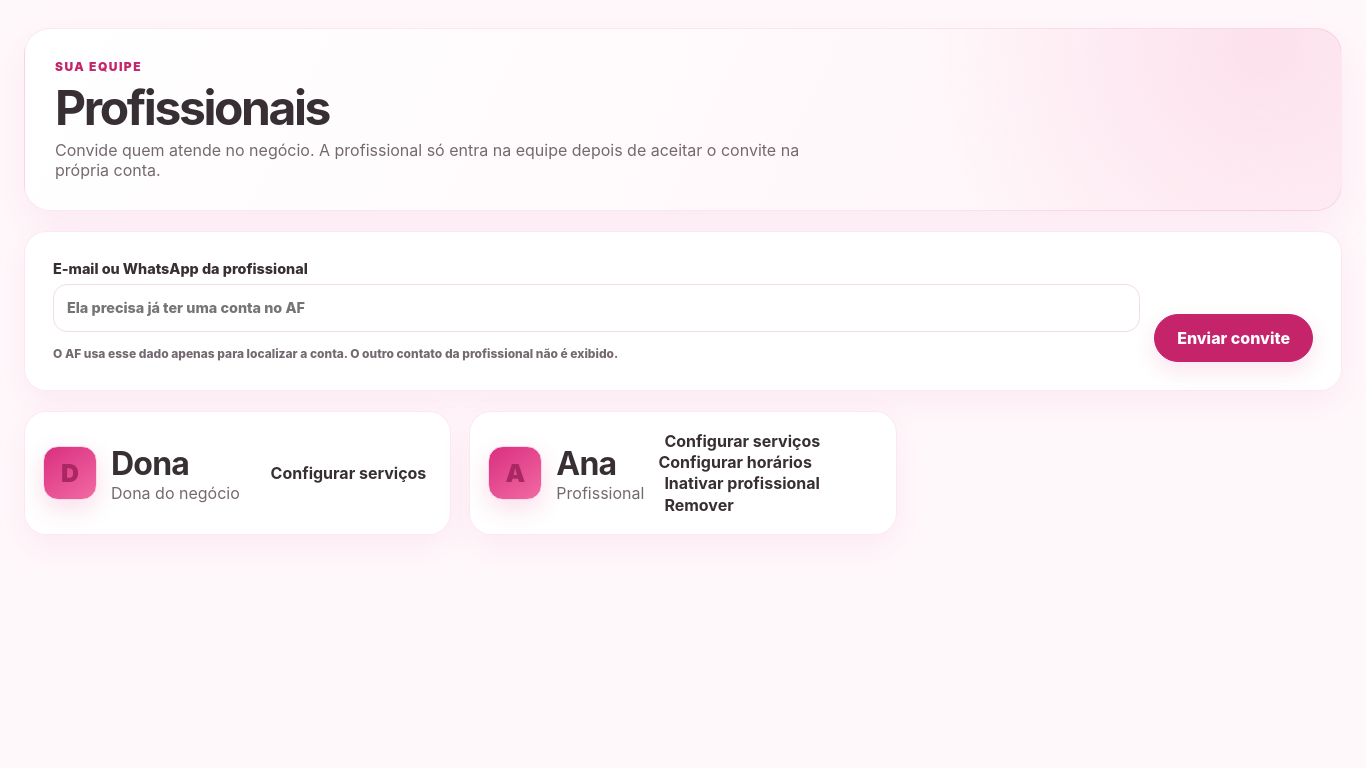
Scenario: equipe por convite › CA-EQP-06: proprietária configura serviços atendidos pela profissional
Click the button "Configurar serviços" next to "Ana": coordinates (742, 441) [658,430,826,452]
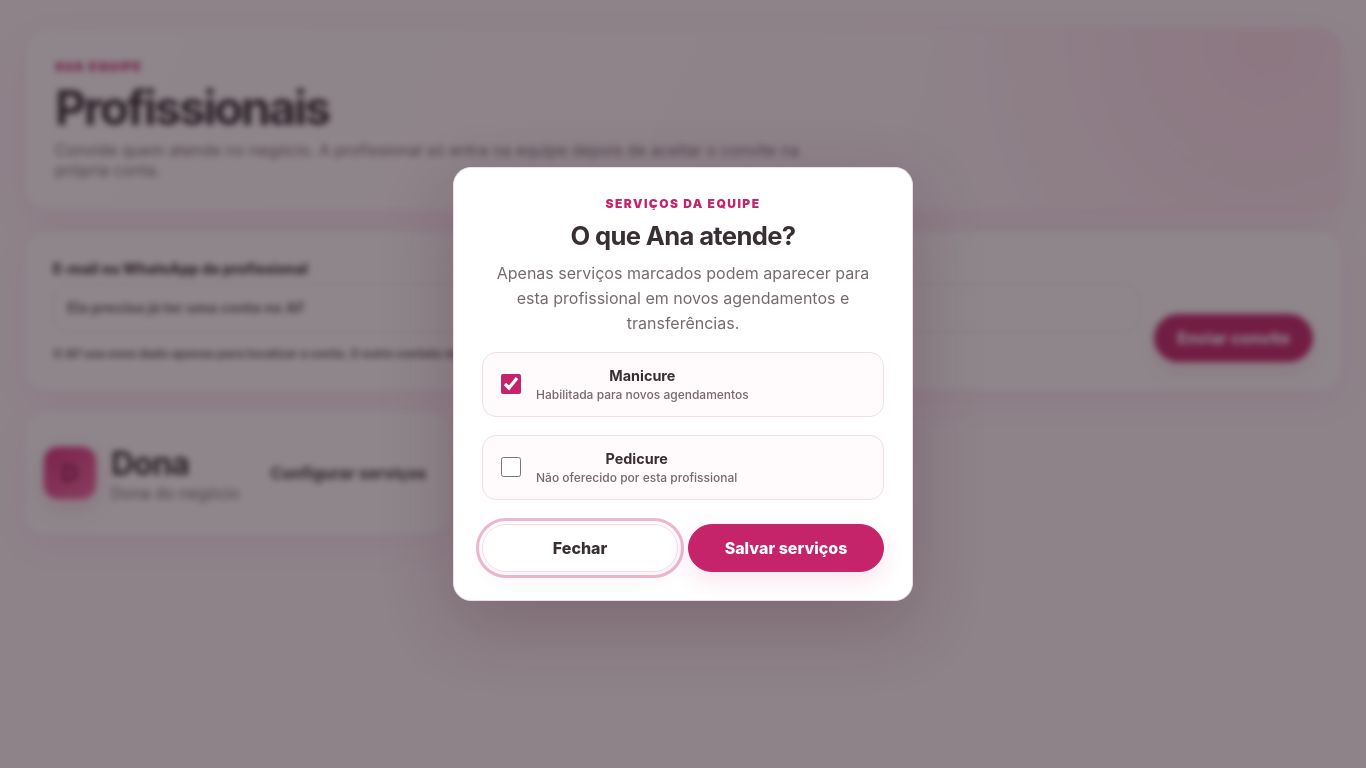
Check: the checkbox labelled "Pedicure Não oferecido por esta profissional" is not checked
Click the checkbox labelled "Pedicure Não oferecido por esta profissional": coordinates (511, 467) [501,457,521,477]
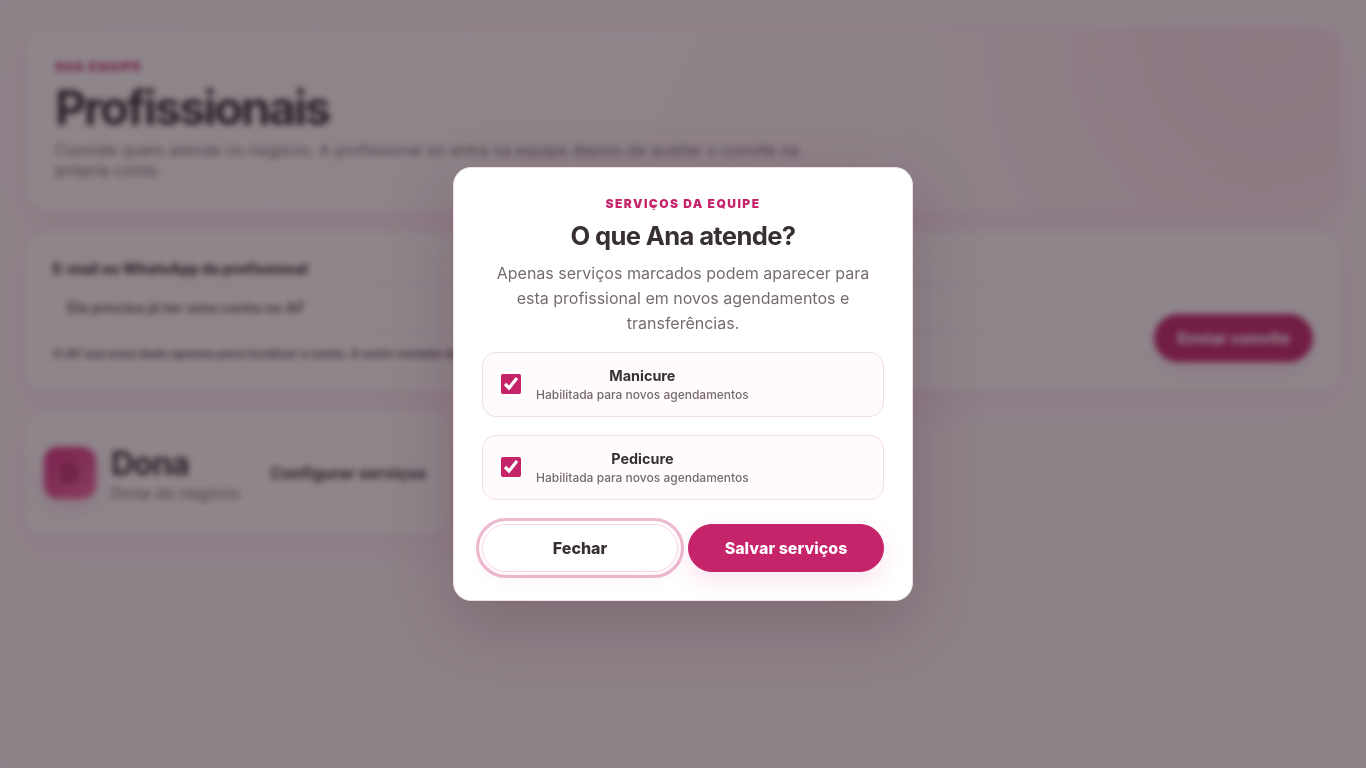
Check: the checkbox labelled "Pedicure Habilitada para novos agendamentos" is checked, box [501,457,521,477]
Click the button "Salvar serviços": coordinates (786, 548) [688,524,884,572]
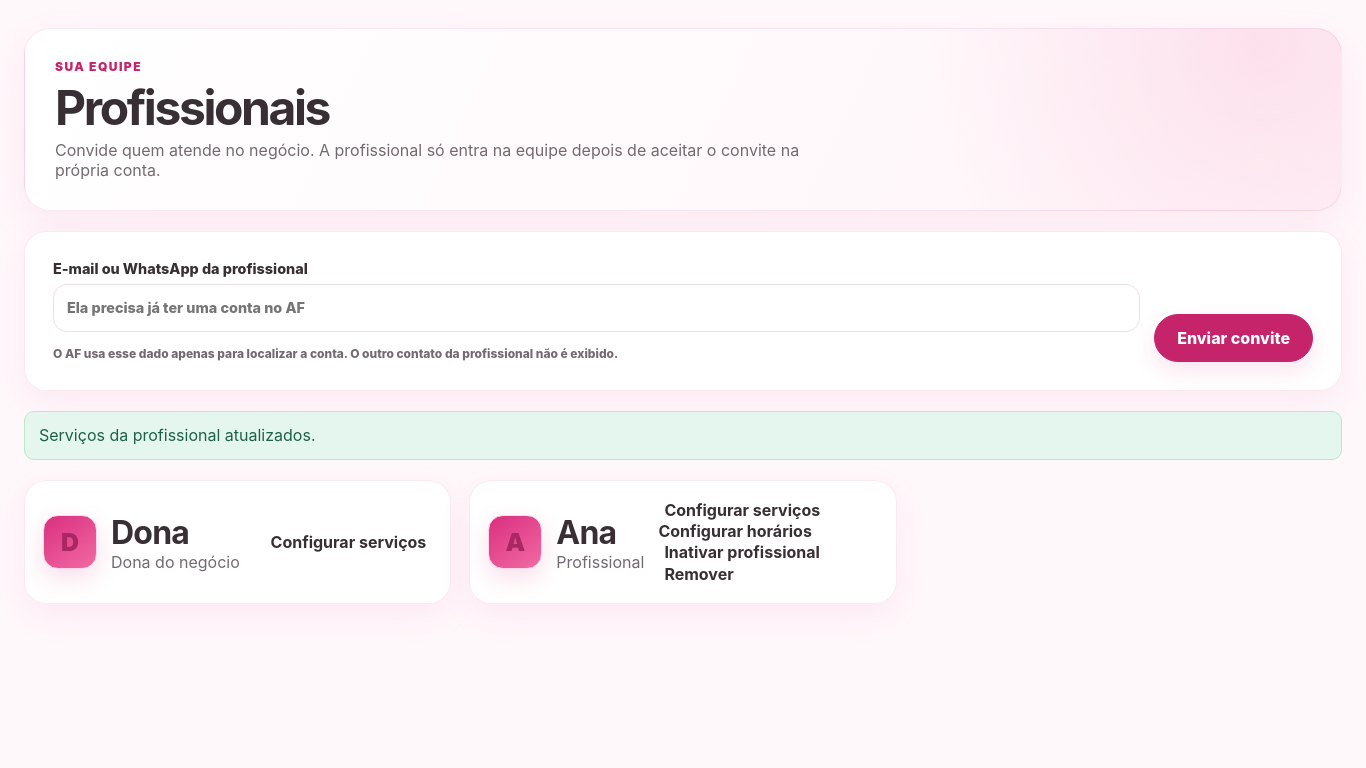
Check: the text "Serviços da profissional atualizados." is shown, box [24,411,1342,460]
